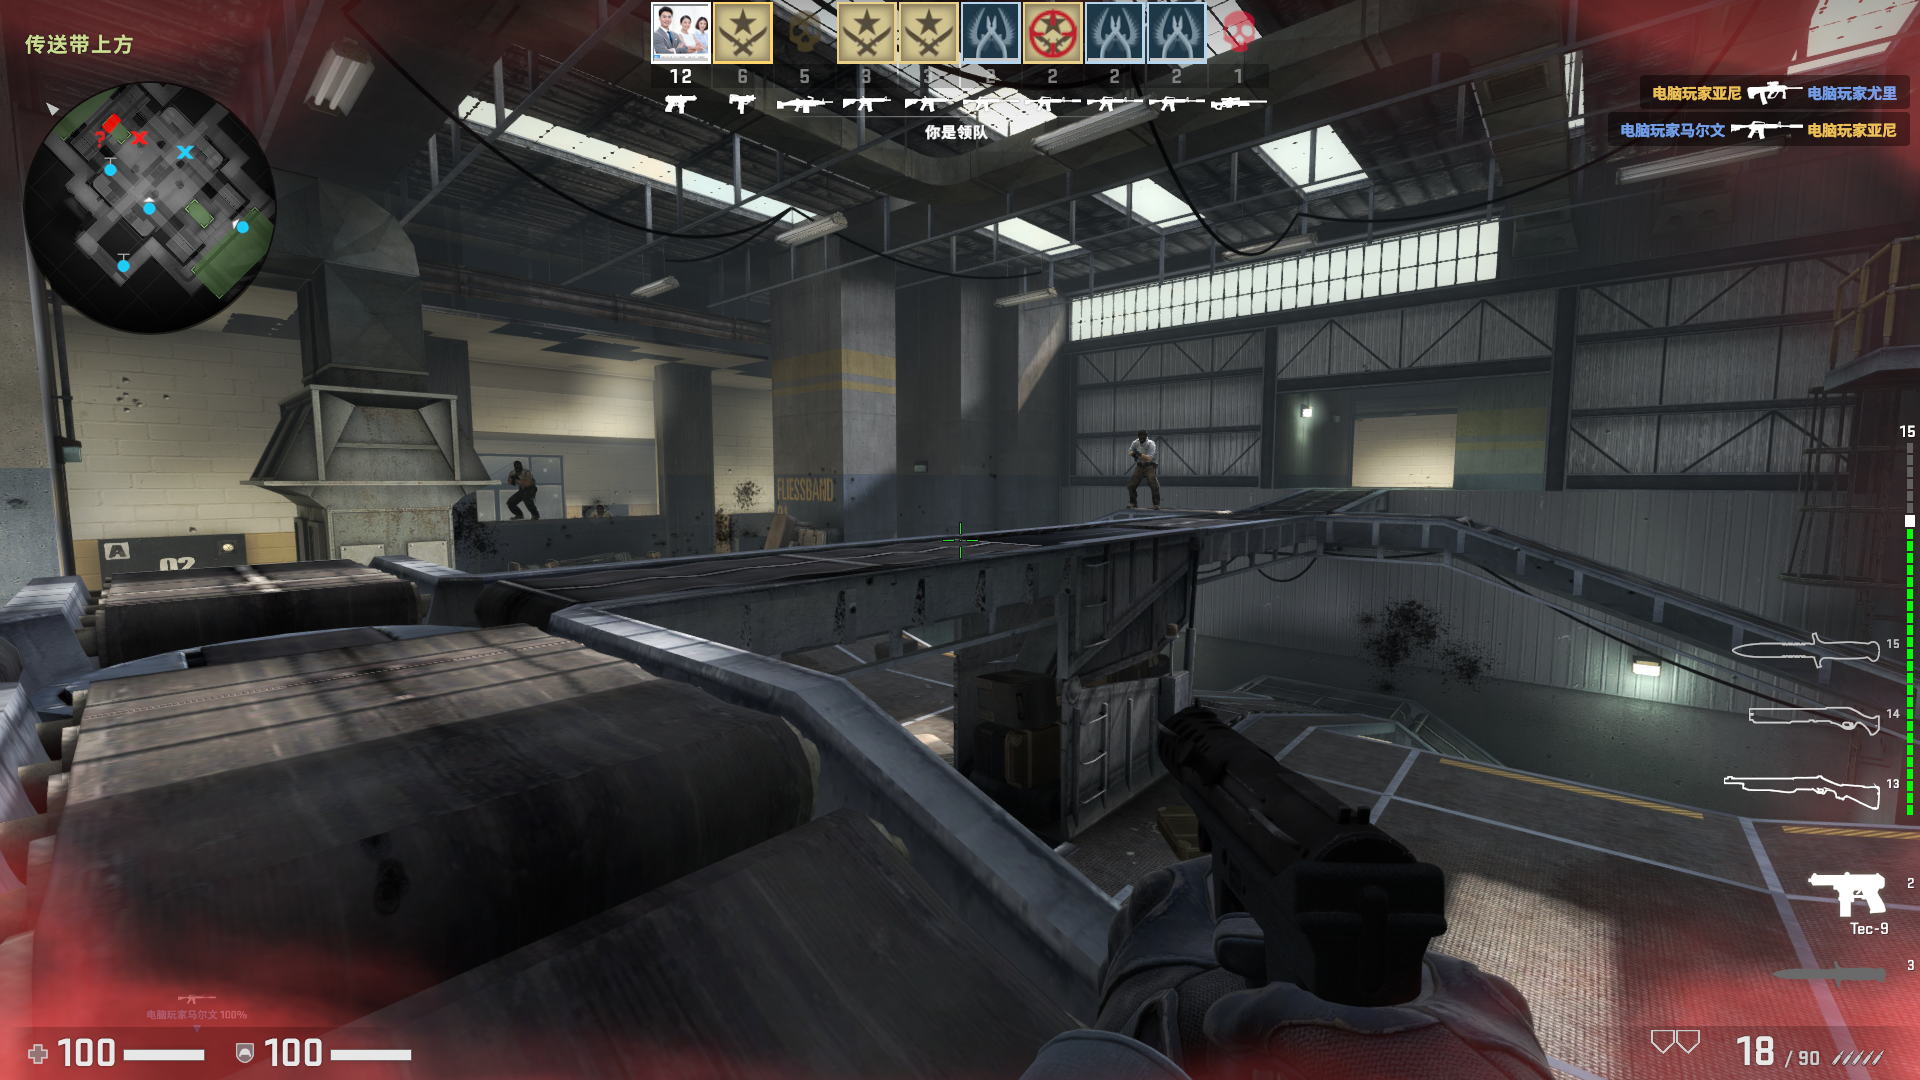person: (1120, 431, 1164, 516), (504, 462, 539, 521)
